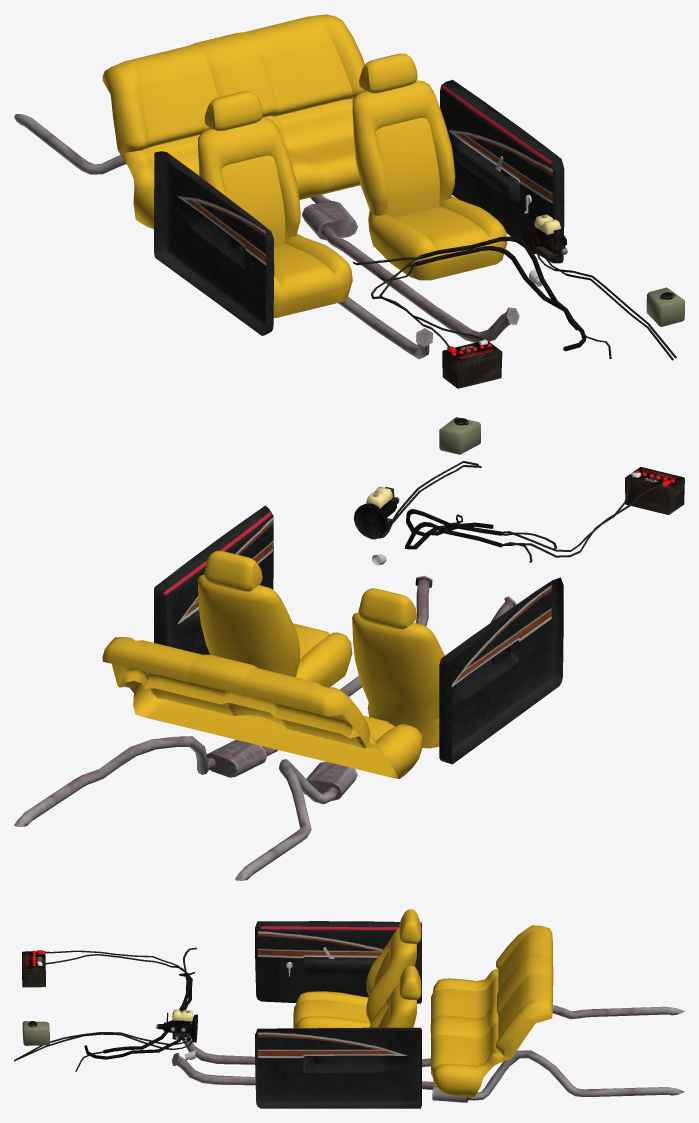
File: UCP.dae
3 renders of one model, top to bottom at view 1: azimuth 30°, elevation 25°; view 2: azimuth 150°, elevation 25°; view 3: azimuth 270°, elevation 25°, orthographic. The views are drawn at different scales.
Visible parts, largest first — view 1: barstow_seats_R, barstow_seat_FL, barstow_seat_FR, barstow_doorpanel_R, barstow_doorpanel_L, barstow_engbay_firewall, barstow_exhaust_L, barstow_engbay_radsupport, barstow_exhaust_R; view 2: barstow_seats_R, barstow_doorpanel_R, barstow_seat_FL, barstow_seat_FR, barstow_doorpanel_L, barstow_exhaust_L, barstow_engbay_firewall, barstow_exhaust_R, barstow_engbay_radsupport; view 3: barstow_doorpanel_L, barstow_seats_R, barstow_doorpanel_R, barstow_seat_FR, barstow_engbay_firewall, barstow_exhaust_L, barstow_seat_FL, barstow_exhaust_R, barstow_engbay_radsupport.
Part boxes in pixels (x1,y1,x2,y2): barstow_seats_R: (102, 14, 364, 229); barstow_seat_FL: (352, 53, 507, 280); barstow_seat_FR: (198, 91, 352, 317); barstow_doorpanel_R: (154, 151, 274, 335); barstow_doorpanel_L: (440, 79, 564, 263); barstow_engbay_firewall: (353, 214, 676, 360); barstow_exhaust_L: (302, 194, 519, 342); barstow_engbay_radsupport: (442, 287, 684, 388); barstow_exhaust_R: (14, 114, 432, 359); barstow_seats_R: (102, 637, 422, 778); barstow_doorpanel_R: (439, 577, 563, 764); barstow_seat_FL: (197, 550, 352, 687); barstow_seat_FR: (352, 588, 444, 748); barstow_doorpanel_L: (154, 505, 273, 654); barstow_exhaust_L: (14, 575, 432, 826); barstow_engbay_firewall: (353, 461, 662, 565); barstow_exhaust_R: (235, 596, 516, 880); barstow_engbay_radsupport: (439, 417, 684, 514); barstow_doorpanel_L: (255, 1027, 421, 1108); barstow_seats_R: (430, 925, 553, 1096); barstow_doorpanel_R: (255, 921, 421, 1003); barstow_seat_FR: (293, 909, 421, 1028); barstow_engbay_firewall: (14, 947, 197, 1071); barstow_exhaust_L: (172, 1050, 684, 1102); barstow_seat_FL: (369, 965, 421, 1027); barstow_exhaust_R: (182, 1005, 684, 1066); barstow_engbay_radsupport: (22, 950, 49, 1045).
Size of what is drawn, in the model's own units: 1.66 by 4.34 by 0.9821.
5 materials, 3 textured.
